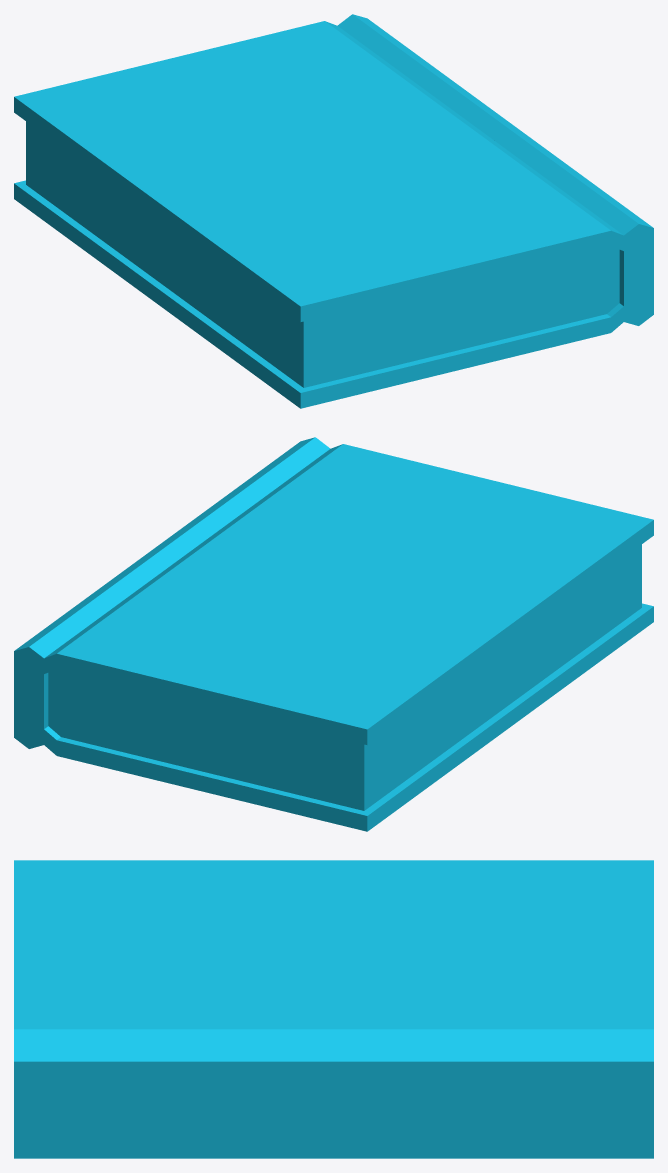
The model's file is book.glb.
The picture shows the model from 3 angles, top to bottom: view 1: azimuth 30°, elevation 25°; view 2: azimuth 150°, elevation 25°; view 3: azimuth 270°, elevation 25°; orthographic projection. The views are drawn at different scales.
Parts seen in each view (by area): view 1: model; view 2: model; view 3: model.
Boxes of the visible parts, x1,y1,x2,y2 form: model: [14, 14, 653, 408]; model: [14, 437, 653, 831]; model: [14, 860, 653, 1158].
Bounding box in the file's own units: 0.188 × 0.052 × 0.264.
